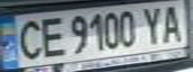0: (103, 9, 124, 50), (118, 7, 139, 47)
1: (87, 10, 106, 52)
9: (66, 11, 90, 55)
A: (157, 2, 187, 43)
C: (12, 16, 45, 61)
E: (36, 15, 66, 60)
Y: (136, 3, 169, 45)
